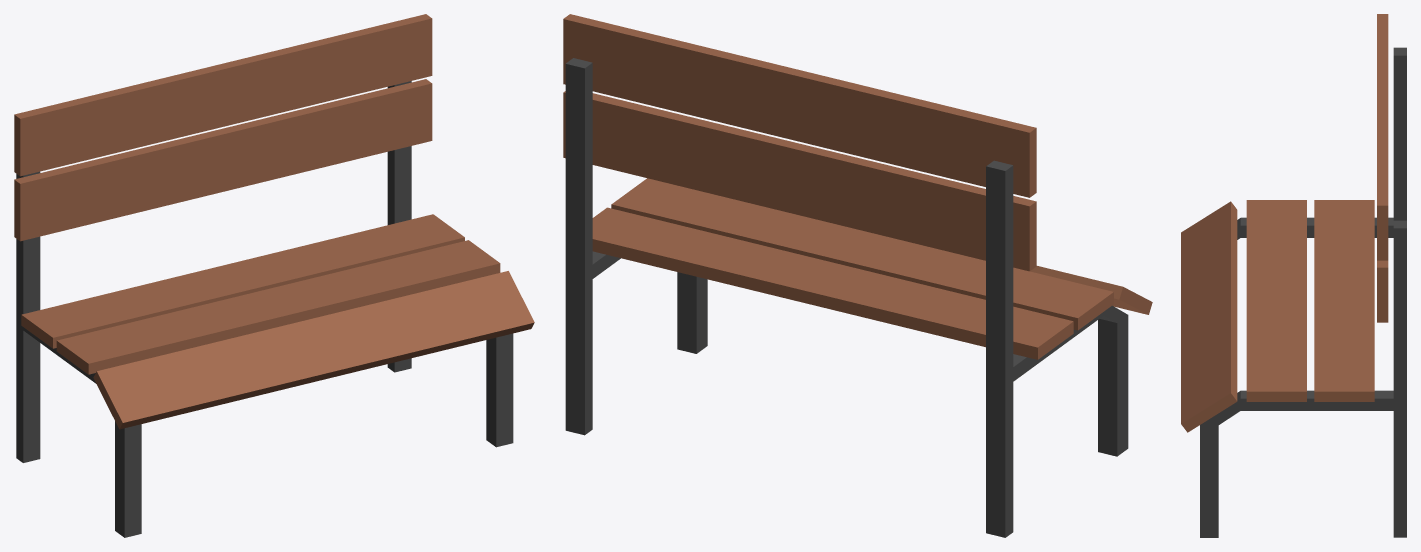
The model's file is Benti.fbx.
The picture shows the model from 3 angles, left to right: view 1: azimuth 30°, elevation 25°; view 2: azimuth 150°, elevation 25°; view 3: azimuth 270°, elevation 25°; orthographic projection. The views are drawn at different scales.
Visible parts, largest first — view 1: benti2; view 2: benti2; view 3: benti2.
Boxes of the visible parts, x1=… form: benti2: x1=14, y1=14, x2=534, y2=537; benti2: x1=563, y1=14, x2=1152, y2=537; benti2: x1=1181, y1=14, x2=1406, y2=537.
Bounding box in the file's own units: 200 × 165 × 99.71.
